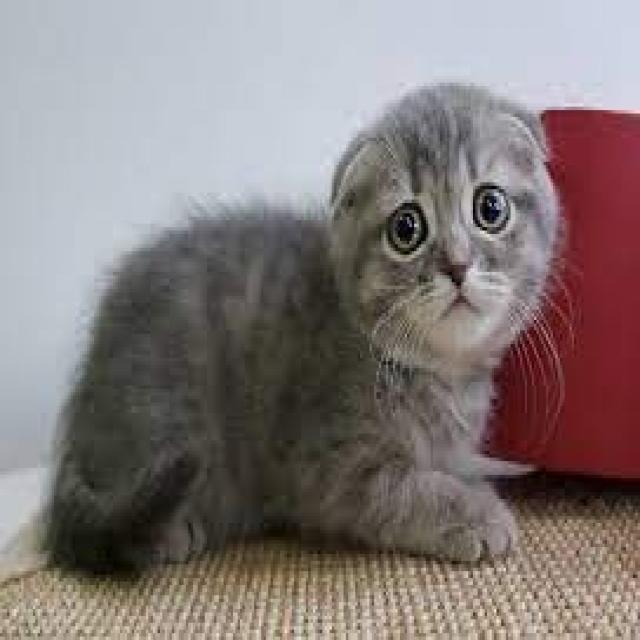cat-face: (278, 31, 594, 438)
